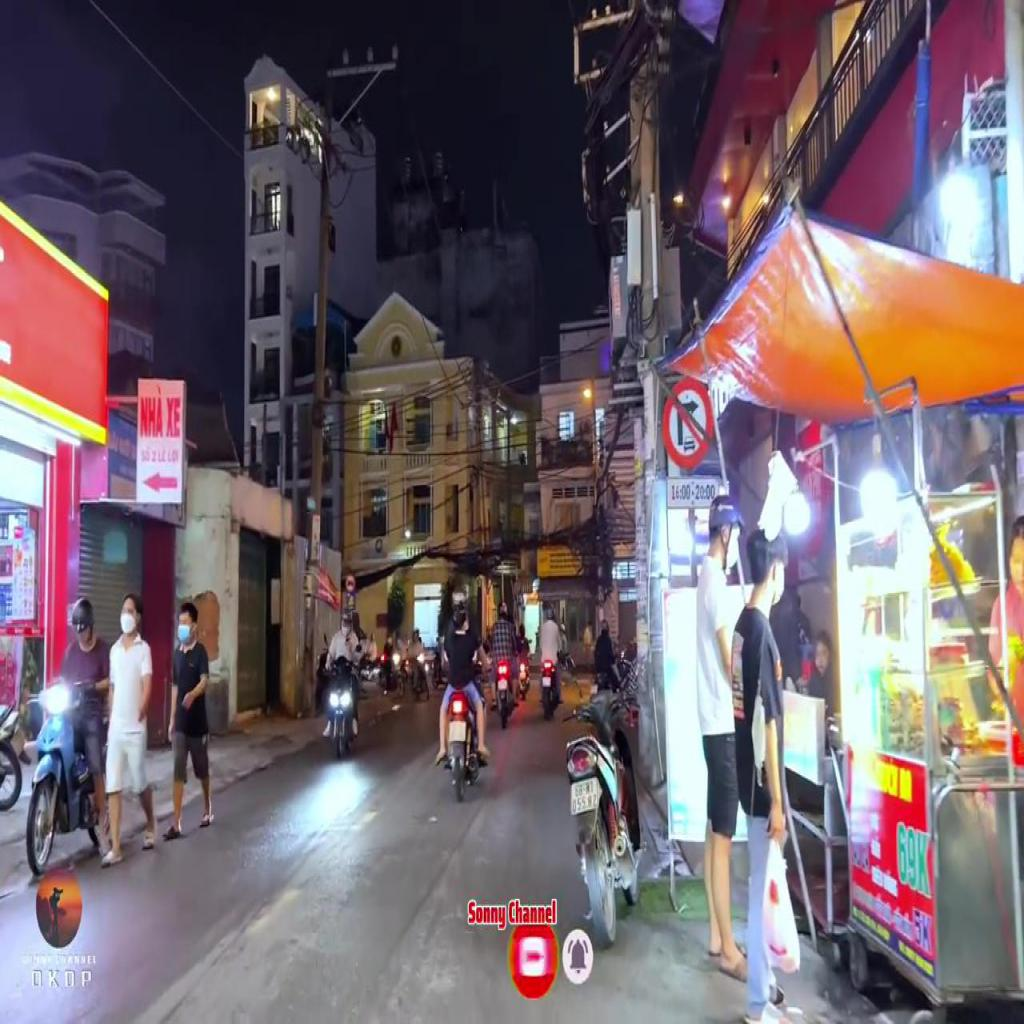cam_o_to_re_phai: (660, 377, 715, 471)
khac: (666, 475, 720, 509)
